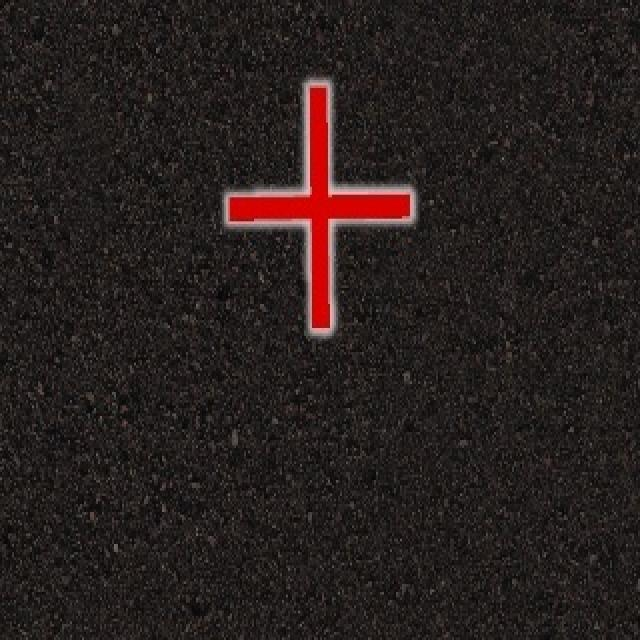x_marker: (227, 84, 411, 329)
